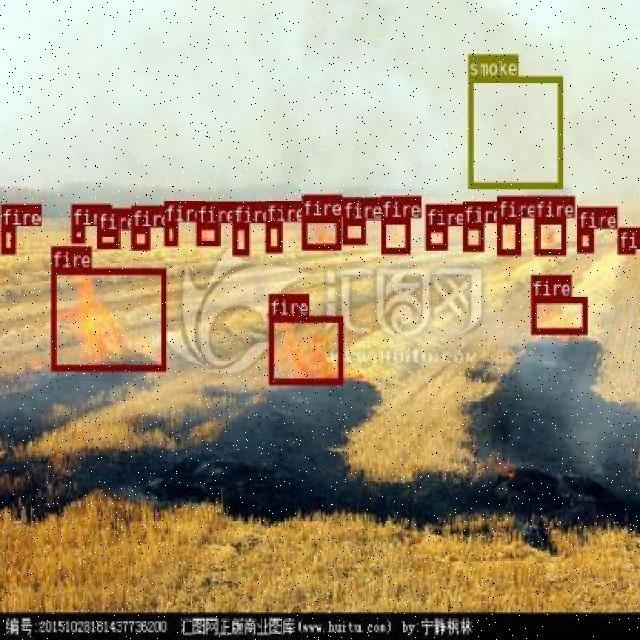Smoke: (467, 11, 561, 124)
